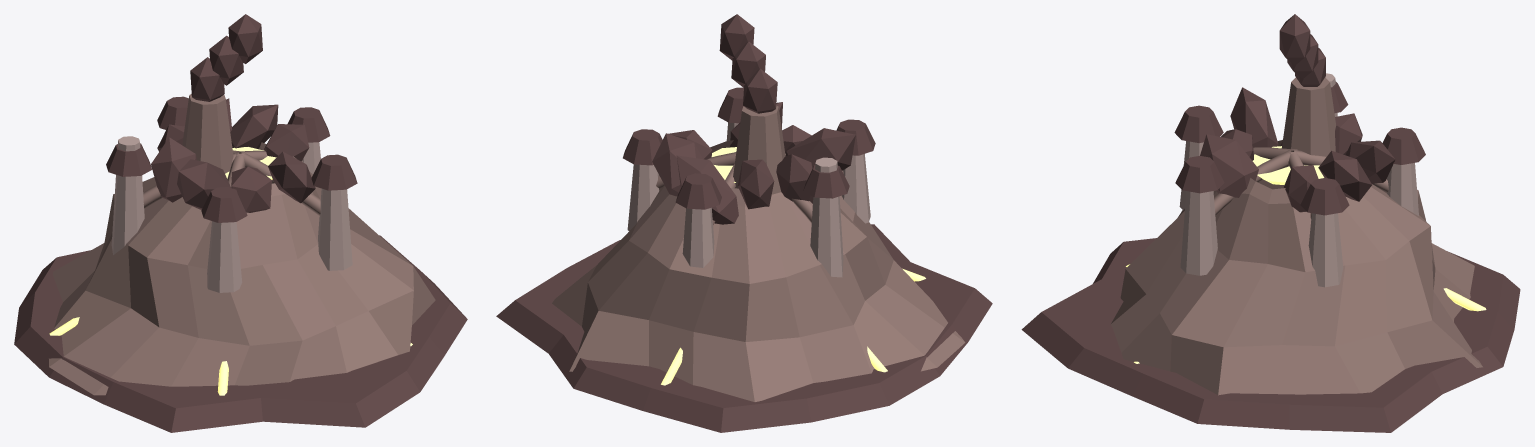
Rendered from molten-wastes-lod0.glb.
3 views of the same model, side by side, from view 1: azimuth 30°, elevation 25°; view 2: azimuth 150°, elevation 25°; view 3: azimuth 270°, elevation 25° (orthographic). The views are drawn at different scales.
Visible parts, largest first — view 1: STONE_ASYMMETRIC_CALDERA, DARK_TERRAIN_SOCKET, STONE_CALDERA_KEEP, STONE_FOUNDRY_TOWER_4, STONE_FOUNDRY_TOWER_2, STONE_FOUNDRY_TOWER_3, DARK_JAGGED_CRATER_RIM_5, DARK_JAGGED_CRATER_RIM_4, DARK_JAGGED_CRATER_RIM_1, DARK_JAGGED_CRATER_RIM_7, DARK_JAGGED_CRATER_RIM_6, DARK_FOUNDRY_CROWN_4 (+9 smaller); view 2: STONE_ASYMMETRIC_CALDERA, DARK_TERRAIN_SOCKET, STONE_CALDERA_KEEP, STONE_FOUNDRY_TOWER_2, DARK_JAGGED_CRATER_RIM_5, STONE_FOUNDRY_TOWER_1, DARK_JAGGED_CRATER_RIM_2, DARK_JAGGED_CRATER_RIM_1, DARK_JAGGED_CRATER_RIM_3, STONE_FOUNDRY_TOWER_0, STONE_FOUNDRY_TOWER_3, DARK_JAGGED_CRATER_RIM_4 (+9 smaller); view 3: STONE_ASYMMETRIC_CALDERA, DARK_TERRAIN_SOCKET, STONE_CALDERA_KEEP, STONE_FOUNDRY_TOWER_4, STONE_FOUNDRY_TOWER_0, DARK_JAGGED_CRATER_RIM_7, DARK_JAGGED_CRATER_RIM_5, DARK_JAGGED_CRATER_RIM_1, DARK_JAGGED_CRATER_RIM_2, DARK_FOUNDRY_CROWN_0, DARK_FOUNDRY_CROWN_4, DARK_FOUNDRY_CROWN_3 (+9 smaller).
Part boxes in pixels (x1=…): STONE_ASYMMETRIC_CALDERA: x1=49, y1=142, x2=435, y2=395; DARK_TERRAIN_SOCKET: x1=14, y1=235, x2=467, y2=432; STONE_CALDERA_KEEP: x1=182, y1=94, x2=233, y2=173; STONE_FOUNDRY_TOWER_4: x1=318, y1=188, x2=352, y2=270; STONE_FOUNDRY_TOWER_2: x1=111, y1=136, x2=144, y2=254; STONE_FOUNDRY_TOWER_3: x1=207, y1=221, x2=242, y2=292; DARK_JAGGED_CRATER_RIM_5: x1=177, y1=159, x2=230, y2=209; DARK_JAGGED_CRATER_RIM_4: x1=151, y1=137, x2=196, y2=202; DARK_JAGGED_CRATER_RIM_1: x1=230, y1=104, x2=278, y2=148; DARK_JAGGED_CRATER_RIM_7: x1=268, y1=151, x2=315, y2=203; DARK_JAGGED_CRATER_RIM_6: x1=231, y1=166, x2=271, y2=212; DARK_FOUNDRY_CROWN_4: x1=311, y1=154, x2=357, y2=190; STONE_ASYMMETRIC_CALDERA: x1=552, y1=140, x2=965, y2=401; DARK_TERRAIN_SOCKET: x1=496, y1=224, x2=992, y2=432; STONE_CALDERA_KEEP: x1=733, y1=105, x2=785, y2=194; STONE_FOUNDRY_TOWER_2: x1=810, y1=157, x2=843, y2=277; DARK_JAGGED_CRATER_RIM_5: x1=785, y1=128, x2=855, y2=170; STONE_FOUNDRY_TOWER_1: x1=682, y1=207, x2=714, y2=267; DARK_JAGGED_CRATER_RIM_2: x1=676, y1=155, x2=738, y2=224; DARK_JAGGED_CRATER_RIM_1: x1=652, y1=133, x2=702, y2=196; DARK_JAGGED_CRATER_RIM_3: x1=737, y1=159, x2=774, y2=209; STONE_FOUNDRY_TOWER_0: x1=627, y1=164, x2=659, y2=230; STONE_FOUNDRY_TOWER_3: x1=842, y1=154, x2=870, y2=223; DARK_JAGGED_CRATER_RIM_4: x1=776, y1=154, x2=813, y2=203; STONE_ASYMMETRIC_CALDERA: x1=1110, y1=140, x2=1482, y2=395; DARK_TERRAIN_SOCKET: x1=1021, y1=238, x2=1520, y2=432; STONE_CALDERA_KEEP: x1=1282, y1=77, x2=1336, y2=156; STONE_FOUNDRY_TOWER_4: x1=1180, y1=191, x2=1217, y2=275; STONE_FOUNDRY_TOWER_0: x1=1308, y1=213, x2=1343, y2=287; DARK_JAGGED_CRATER_RIM_7: x1=1200, y1=134, x2=1258, y2=197; DARK_JAGGED_CRATER_RIM_5: x1=1230, y1=87, x2=1278, y2=147; DARK_JAGGED_CRATER_RIM_1: x1=1318, y1=150, x2=1372, y2=201; DARK_JAGGED_CRATER_RIM_2: x1=1345, y1=140, x2=1395, y2=184; DARK_FOUNDRY_CROWN_0: x1=1300, y1=178, x2=1349, y2=215; DARK_FOUNDRY_CROWN_4: x1=1175, y1=156, x2=1224, y2=193; DARK_FOUNDRY_CROWN_3: x1=1174, y1=105, x2=1223, y2=143.
Size of the model in its own units: 1.79 by 1.37 by 1.92.
